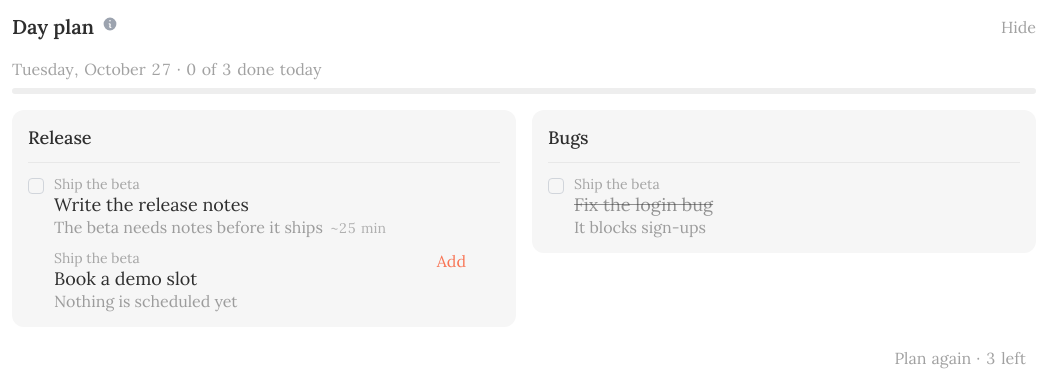
Scenario: DayPlanSection › show / hide (R72) › should hide and remember the preference under the existing key
The width and height of the screenshot is (1048, 386).
Check: the text "Write the release notes" is shown, box [54,193,249,217]
Click the button "Hide". click: (1018, 27)
box: [1001,16,1036,38]
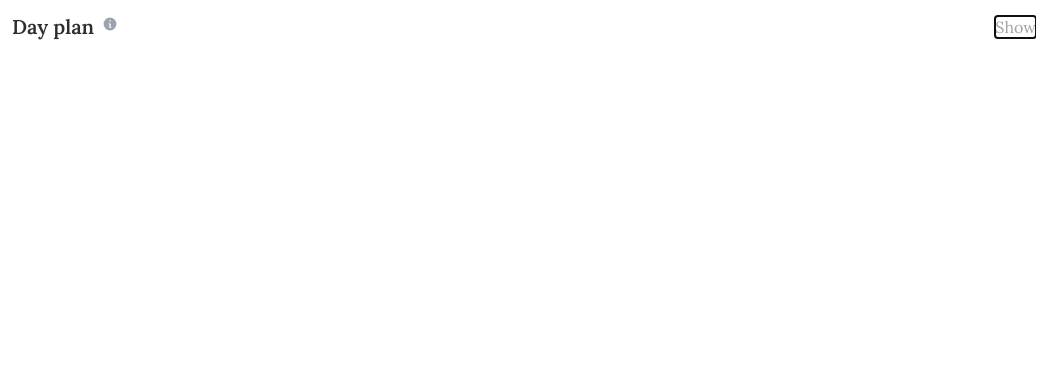
Check: the text "Write the release notes" is gone
